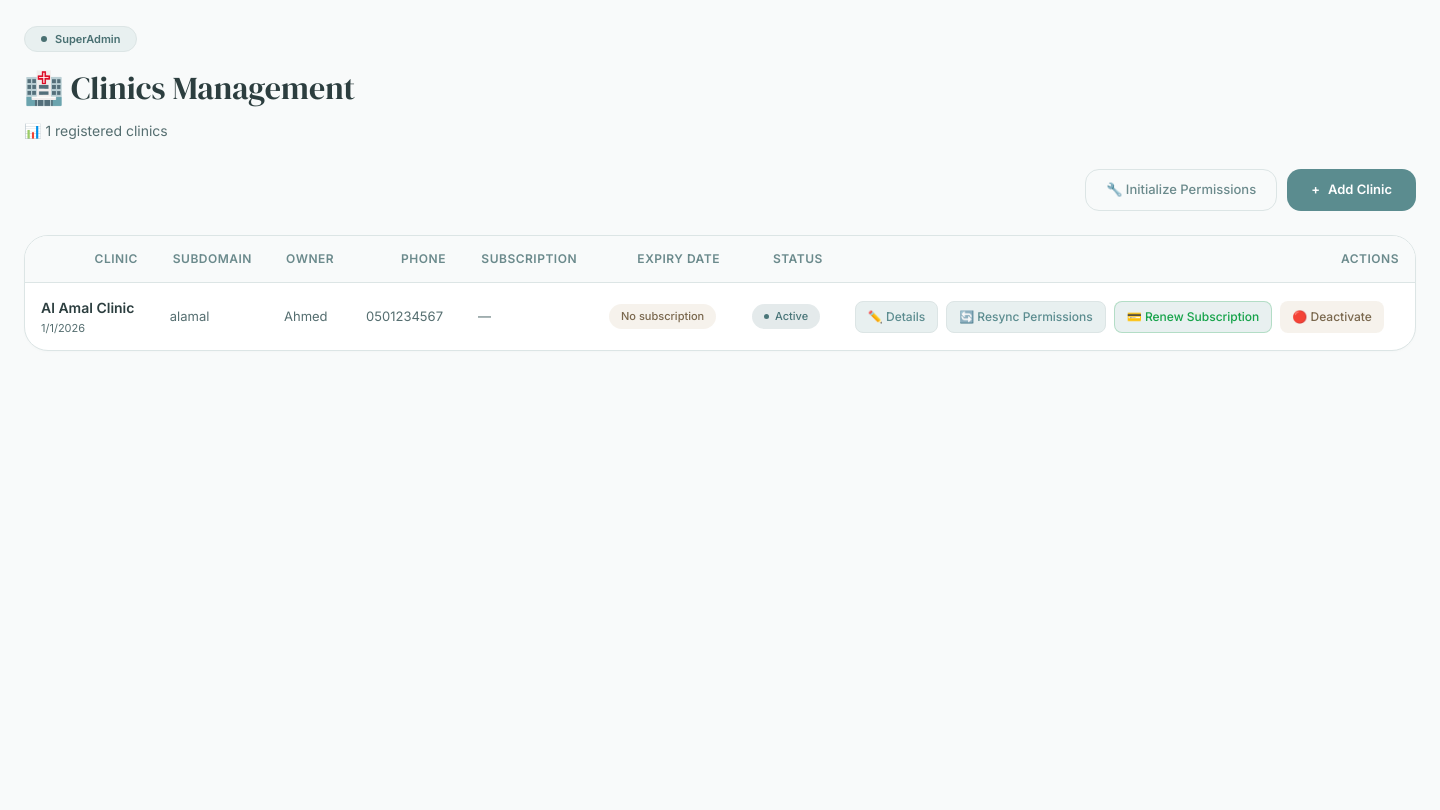
Scenario: SuperAdminClinics › shows an inline error banner when toggling a clinic fails
Expected: the text "Al Amal Clinic" is shown, 41,297 -> 138,318
Click the button "🔴 Deactivate" at (1332, 316), box 1280,300 -> 1384,332
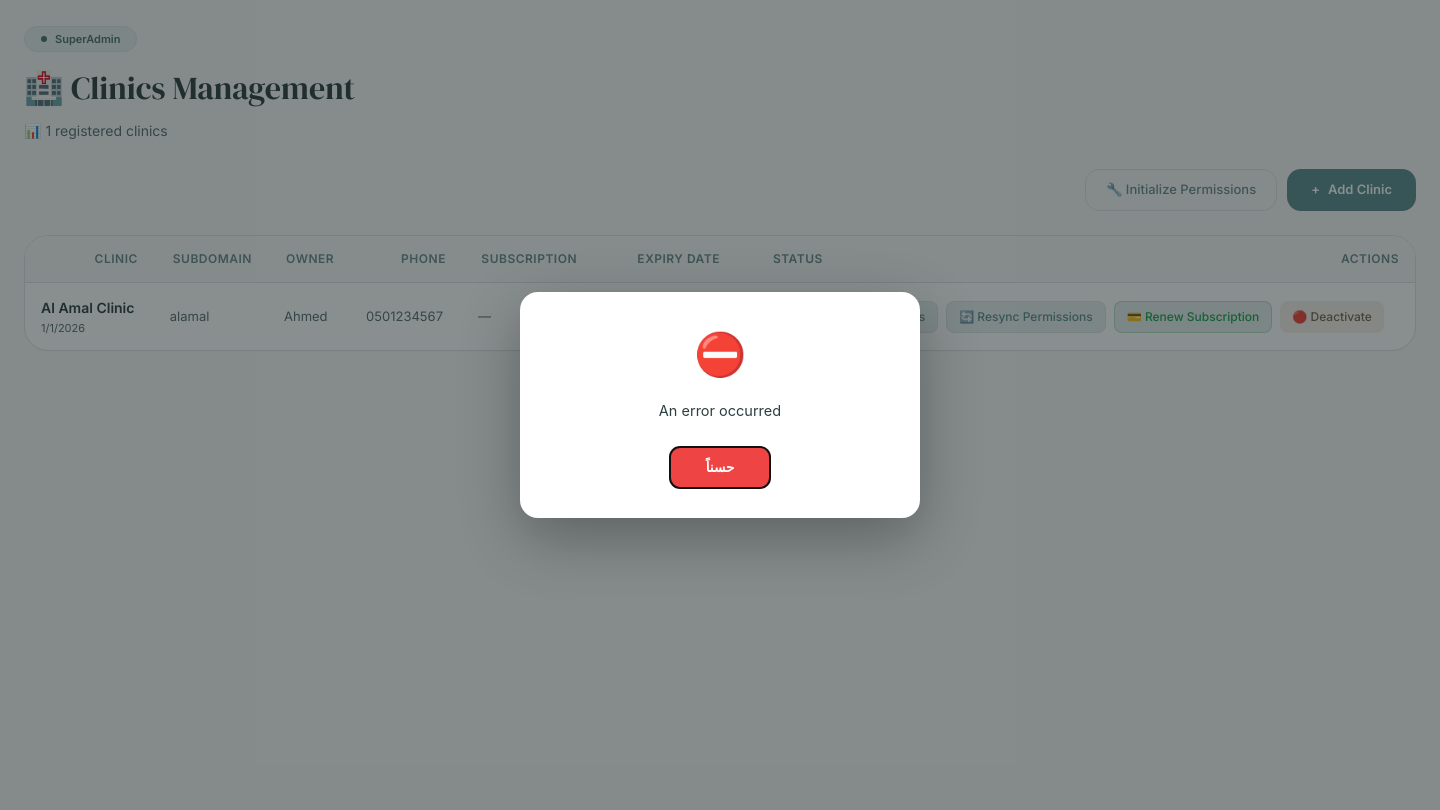
Now the dialog is shown, box 520,292 -> 920,518
